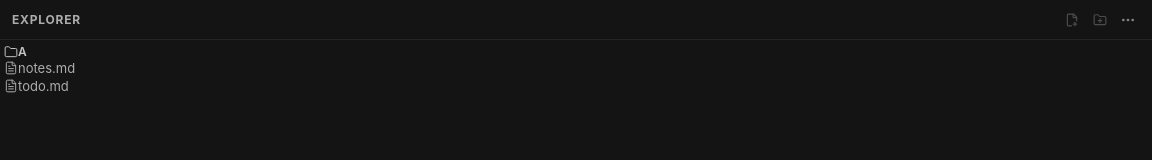
Test: opens on the root's heading too, with what applies there
Right-click the button "A".
right_click(11, 52)  # box 4,44 -> 1148,59
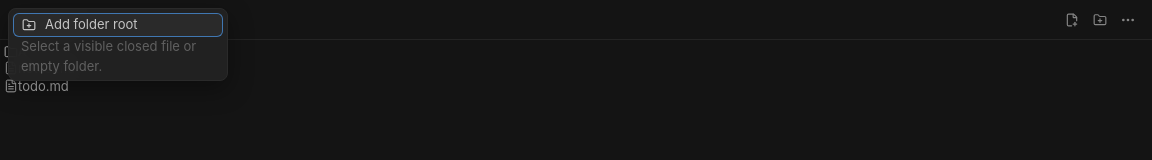
Result: the menu named "Explorer actions" is shown at 8,8 -> 228,81
